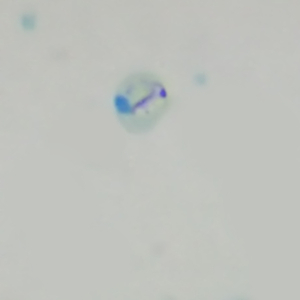erythrocyte: (110, 71, 175, 137)
